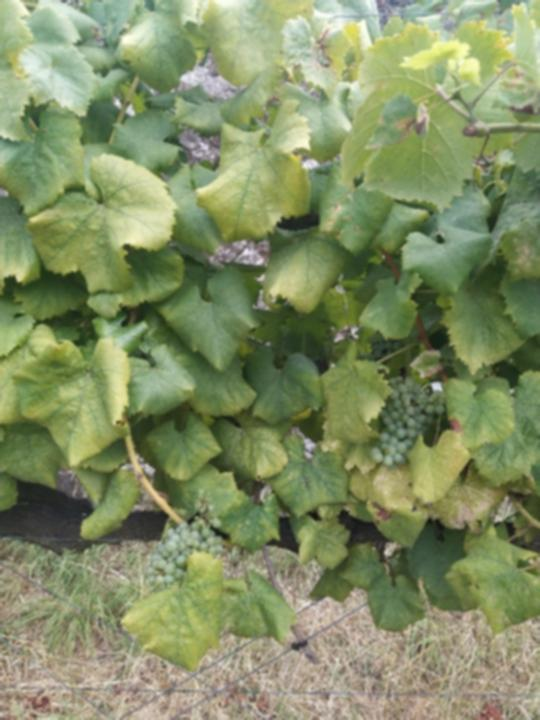grape: (369, 375, 447, 471), (145, 518, 225, 592)
